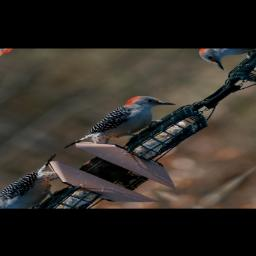Woodpecker: (61, 88, 187, 165)
